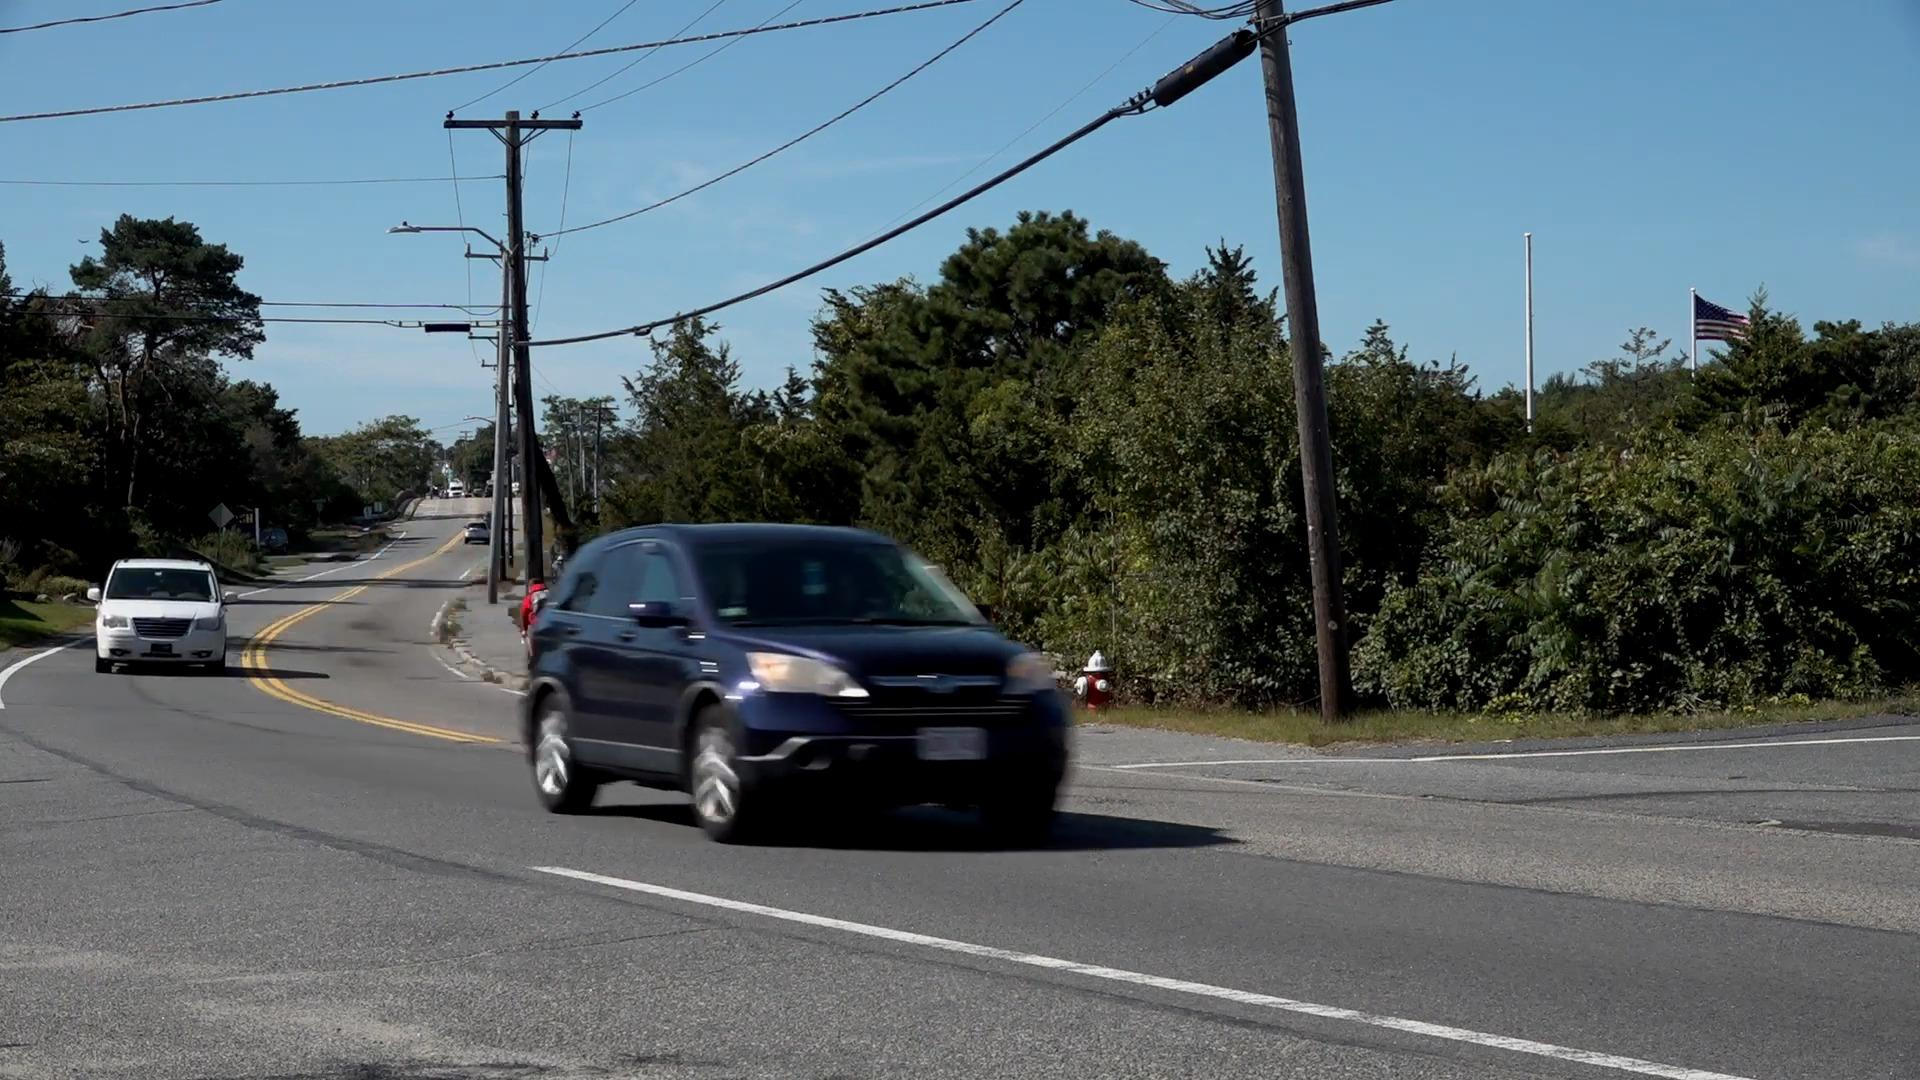minivan: (90, 555, 236, 674)
suv: (530, 524, 1075, 839)
